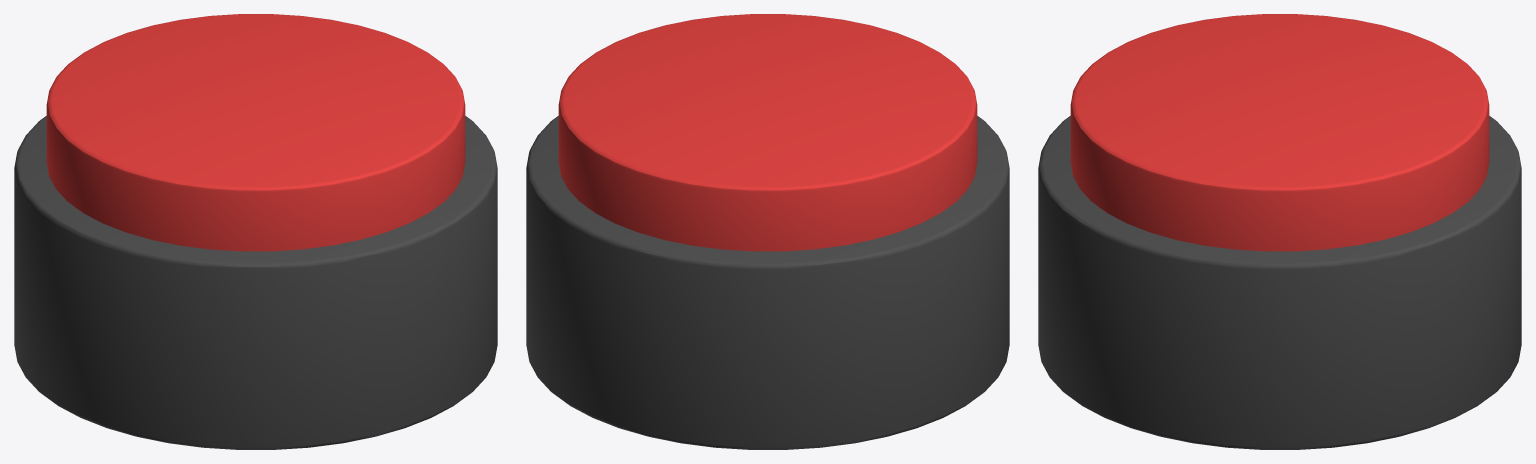
File: botao.fbx
The picture shows the model from 3 angles, left to right: view 1: azimuth 30°, elevation 25°; view 2: azimuth 150°, elevation 25°; view 3: azimuth 270°, elevation 25°; orthographic projection.
Parts seen in each view (by area): view 1: Base, Botao; view 2: Base, Botao; view 3: Base, Botao.
Part boxes in pixels (bbox=[...]): Base: bbox=[14, 116, 497, 449]; Botao: bbox=[46, 14, 465, 251]; Base: bbox=[526, 116, 1009, 449]; Botao: bbox=[558, 14, 977, 251]; Base: bbox=[1038, 116, 1521, 449]; Botao: bbox=[1070, 14, 1489, 251].
Bounding box in the file's own units: 45.64 × 26.05 × 45.77.
